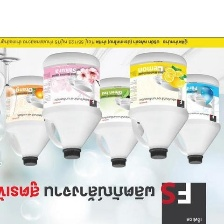cleaning_solution: (39, 50, 104, 162), (127, 50, 190, 161), (88, 75, 149, 170), (165, 72, 222, 166), (3, 73, 59, 168)
